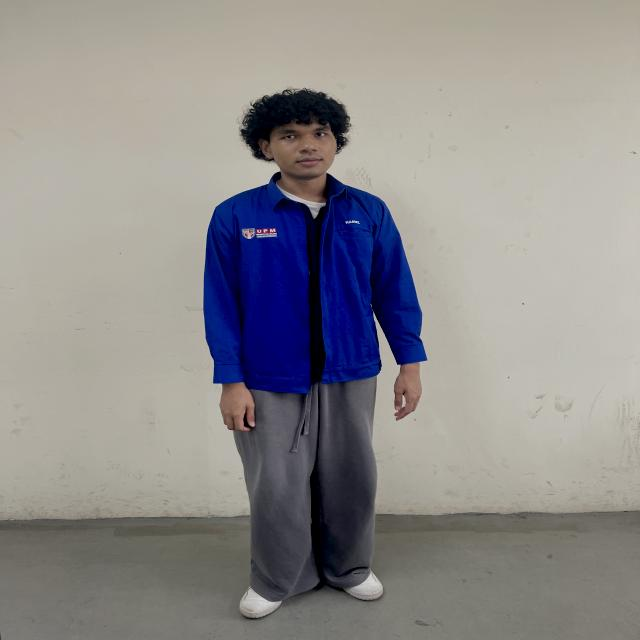person_with_labcoat: (203, 89, 426, 618)
